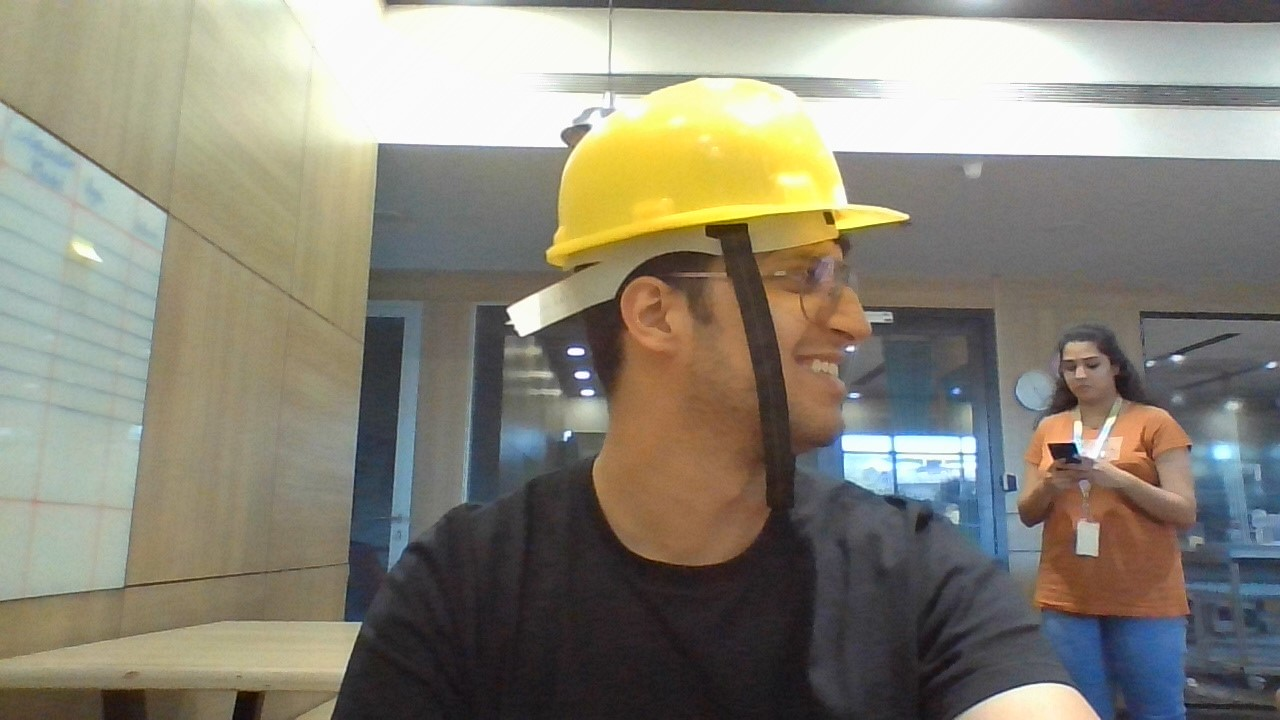Person_wearing_helmet: (551, 74, 928, 335)
